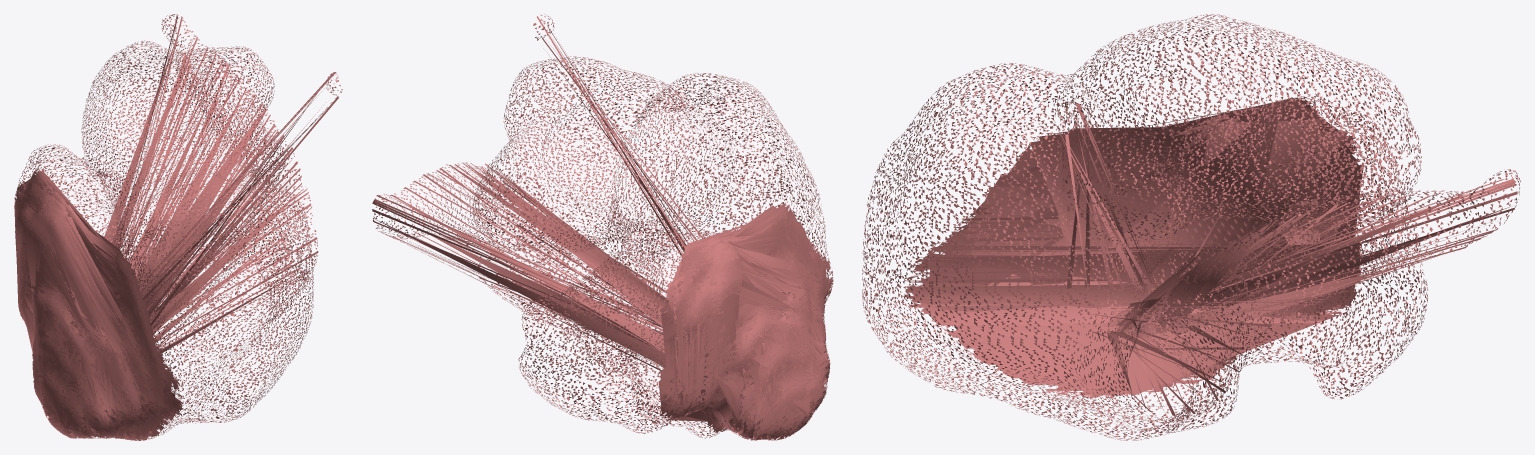
The model's file is heart.glb.
3 views of the same model, side by side, from view 1: azimuth 30°, elevation 25°; view 2: azimuth 150°, elevation 25°; view 3: azimuth 270°, elevation 25° (orthographic). The views are drawn at different scales.
Bounding box in the file's own units: 114 × 132 × 173.
